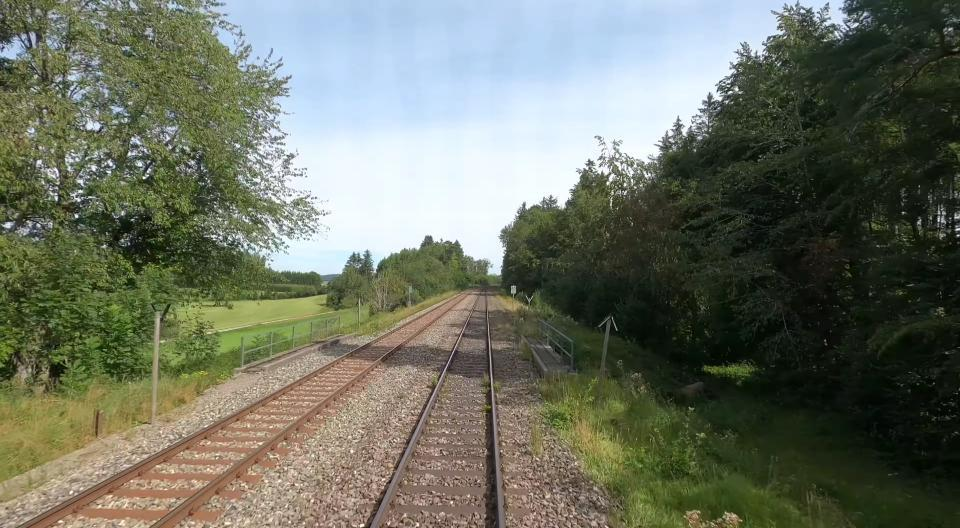Plant: (540, 375, 812, 528), (530, 418, 545, 457), (477, 372, 491, 394), (519, 337, 532, 360), (493, 382, 501, 392), (482, 403, 490, 412), (429, 379, 437, 388)
